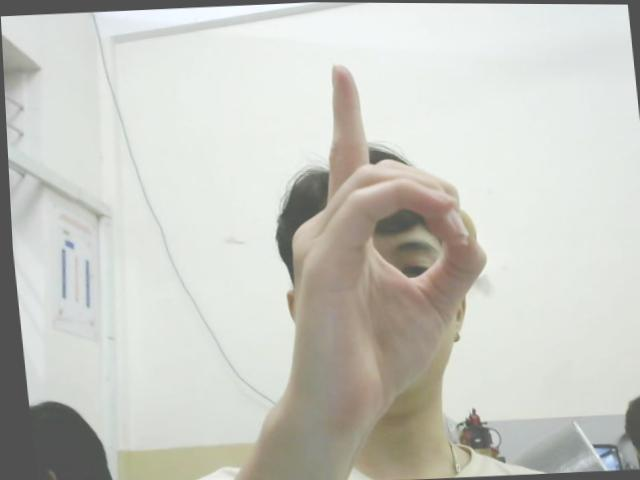D: (262, 52, 500, 420)
